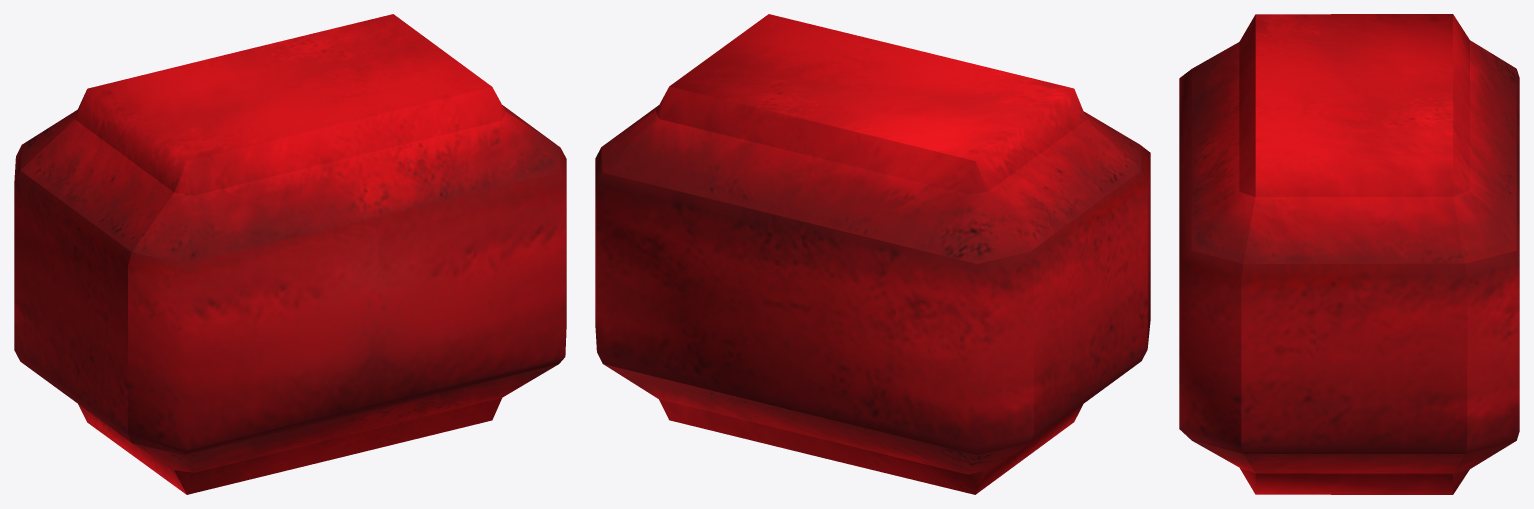
File: Ruby.fbx
3 views of the same model, side by side, from view 1: azimuth 30°, elevation 25°; view 2: azimuth 150°, elevation 25°; view 3: azimuth 270°, elevation 25° (orthographic).
Parts seen in each view (by area): view 1: Mesh; view 2: Mesh; view 3: Mesh.
Part boxes in pixels (left/top/right/bottom): Mesh: left=14, top=14, right=566, bottom=494; Mesh: left=595, top=14, right=1150, bottom=494; Mesh: left=1179, top=14, right=1519, bottom=494.
Size of the model in its own units: 40.91 by 27.63 by 29.78.
1 material, 1 textured.
